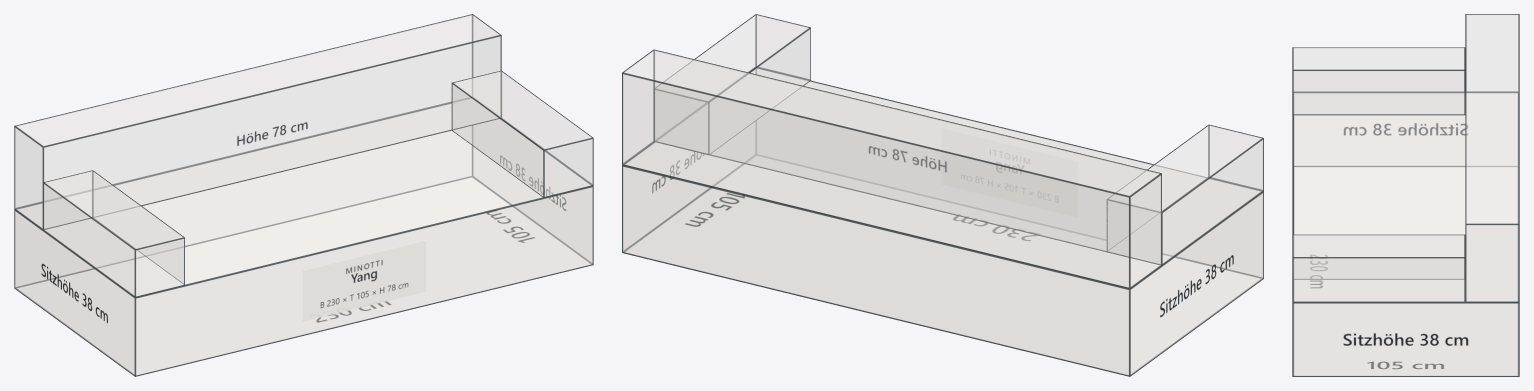
File: sofas-yang--sofa-230-cm.glb
The picture shows the model from 3 angles, left to right: view 1: azimuth 30°, elevation 25°; view 2: azimuth 150°, elevation 25°; view 3: azimuth 270°, elevation 25°; orthographic projection. The views are drawn at different scales.
Visible parts, largest first — view 1: sitz_oben, Grundflaeche, ruecken_vorne, sitz_vorne, ruecken_hinten, sitz_hinten, ruecken_oben, sitz_links, sitz_rechts, arm_links_oben, arm_rechts_oben, arm_links_links (+9 smaller); view 2: Grundflaeche, sitz_oben, ruecken_hinten, ruecken_vorne, sitz_hinten, sitz_vorne, ruecken_oben, sitz_links, sitz_rechts, arm_links_links, arm_links_oben, arm_rechts_oben (+9 smaller); view 3: sitz_oben, Grundflaeche, sitz_rechts, sitz_links, ruecken_oben, arm_rechts_rechts, arm_links_rechts, arm_links_links, arm_rechts_links, ruecken_rechts, ruecken_links, arm_rechts_oben (+1 smaller).
Boxes of the visible parts, <box> form: sitz_oben: <box>15,98,592,296</box>; Grundflaeche: <box>15,176,591,375</box>; ruecken_vorne: <box>43,35,501,229</box>; sitz_vorne: <box>135,186,593,376</box>; ruecken_hinten: <box>15,15,472,208</box>; sitz_hinten: <box>15,104,472,287</box>; ruecken_oben: <box>14,14,500,146</box>; sitz_links: <box>14,209,135,376</box>; sitz_rechts: <box>472,119,592,263</box>; arm_links_oben: <box>43,170,184,249</box>; arm_rechts_oben: <box>452,70,593,149</box>; arm_links_links: <box>43,182,135,297</box>; Grundflaeche: <box>623,155,1262,375</box>; sitz_oben: <box>623,68,1262,287</box>; ruecken_hinten: <box>622,73,1129,288</box>; ruecken_vorne: <box>654,50,1161,264</box>; sitz_hinten: <box>622,165,1129,376</box>; sitz_vorne: <box>756,69,1263,277</box>; ruecken_oben: <box>622,49,1161,196</box>; sitz_links: <box>1130,191,1263,376</box>; sitz_rechts: <box>623,69,755,251</box>; arm_links_links: <box>1162,138,1263,265</box>; arm_links_oben: <box>1108,124,1263,212</box>; arm_rechts_oben: <box>655,14,810,101</box>; sitz_oben: <box>1292,92,1518,301</box>; Grundflaeche: <box>1293,166,1518,375</box>; sitz_rechts: <box>1292,302,1519,376</box>; sitz_links: <box>1294,93,1517,166</box>; ruecken_oben: <box>1465,14,1519,223</box>; arm_rechts_rechts: <box>1292,257,1465,302</box>; arm_links_rechts: <box>1292,70,1465,115</box>; arm_links_links: <box>1293,47,1464,92</box>; arm_rechts_links: <box>1293,235,1464,279</box>; ruecken_rechts: <box>1465,224,1519,302</box>; ruecken_links: <box>1466,14,1518,92</box>; arm_rechts_oben: <box>1292,234,1465,257</box>.
Bounding box in the file's own units: 2.3 × 0.78 × 1.05.
21 materials, 21 textured.
